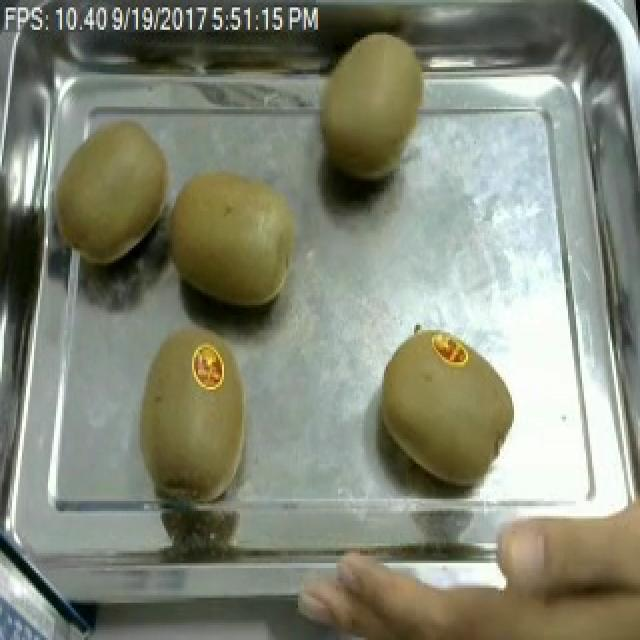Fruit: (370, 320, 524, 496), (484, 474, 640, 640), (128, 317, 258, 498), (156, 161, 308, 315), (310, 18, 440, 198), (46, 111, 186, 278)
